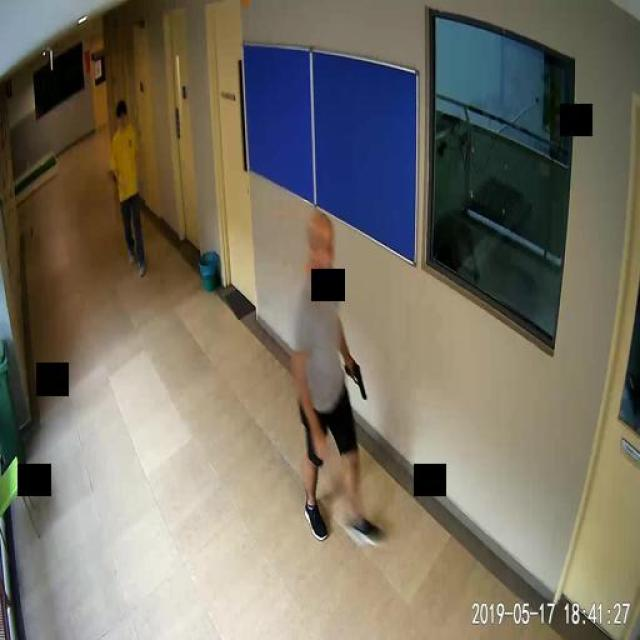gun: (344, 355, 365, 397)
